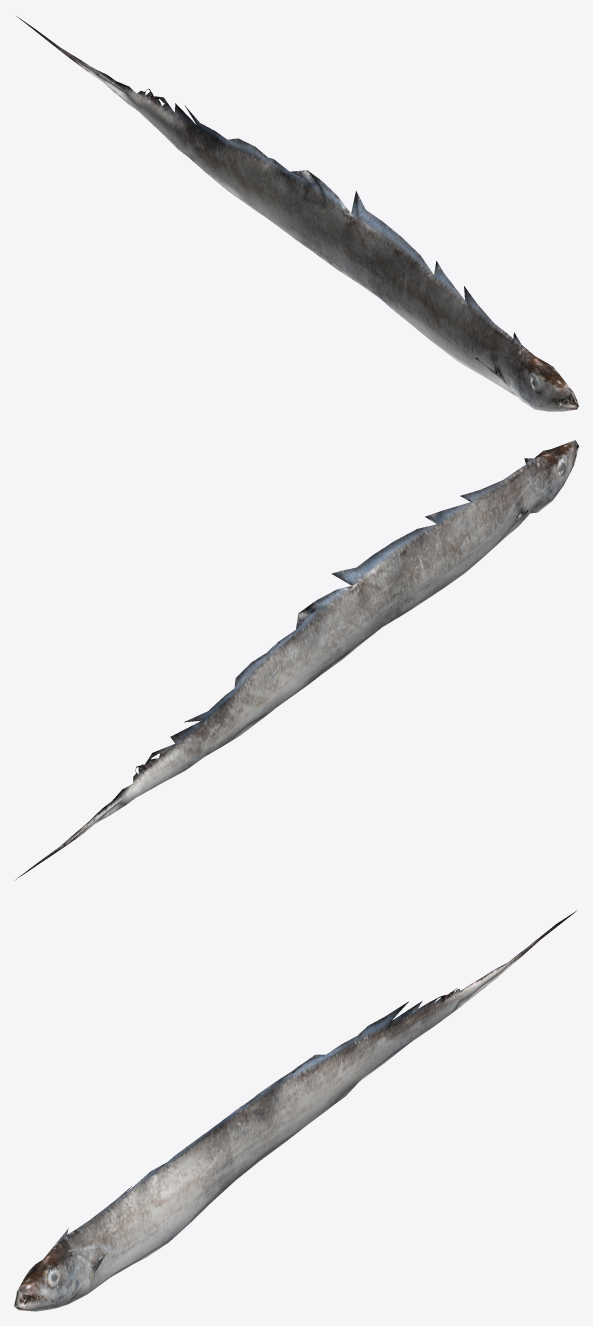
File: cutlassfish.glb
The picture shows the model from 3 angles, top to bottom: view 1: azimuth 30°, elevation 25°; view 2: azimuth 150°, elevation 25°; view 3: azimuth 330°, elevation 25°; orthographic projection.
Visible parts, largest first — view 1: cutlassfish; view 2: cutlassfish; view 3: cutlassfish.
Part boxes in pixels (x1,y1,x2,y2): cutlassfish: (16,16,578,411); cutlassfish: (16,440,578,879); cutlassfish: (14,910,577,1311).
Bounding box in the file's own units: 0.0526 × 0.1001 × 1.2.
1 material, 1 textured.
